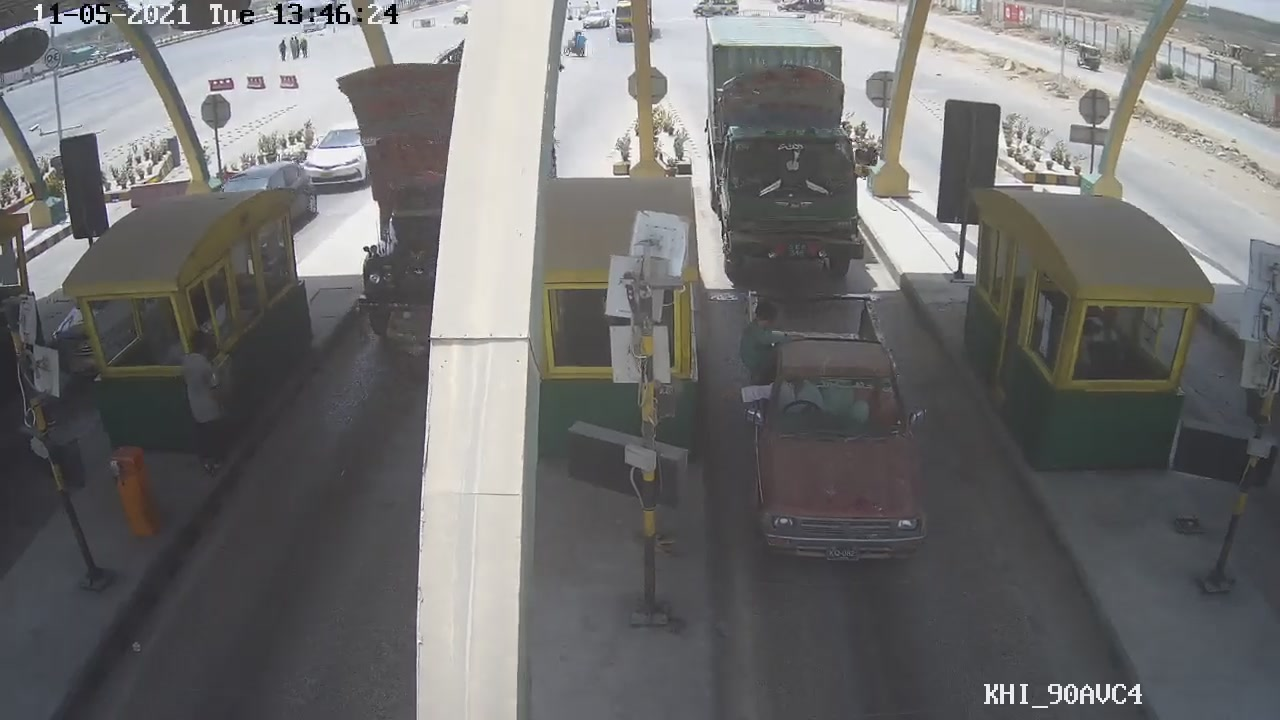F6: (697, 13, 884, 286)
